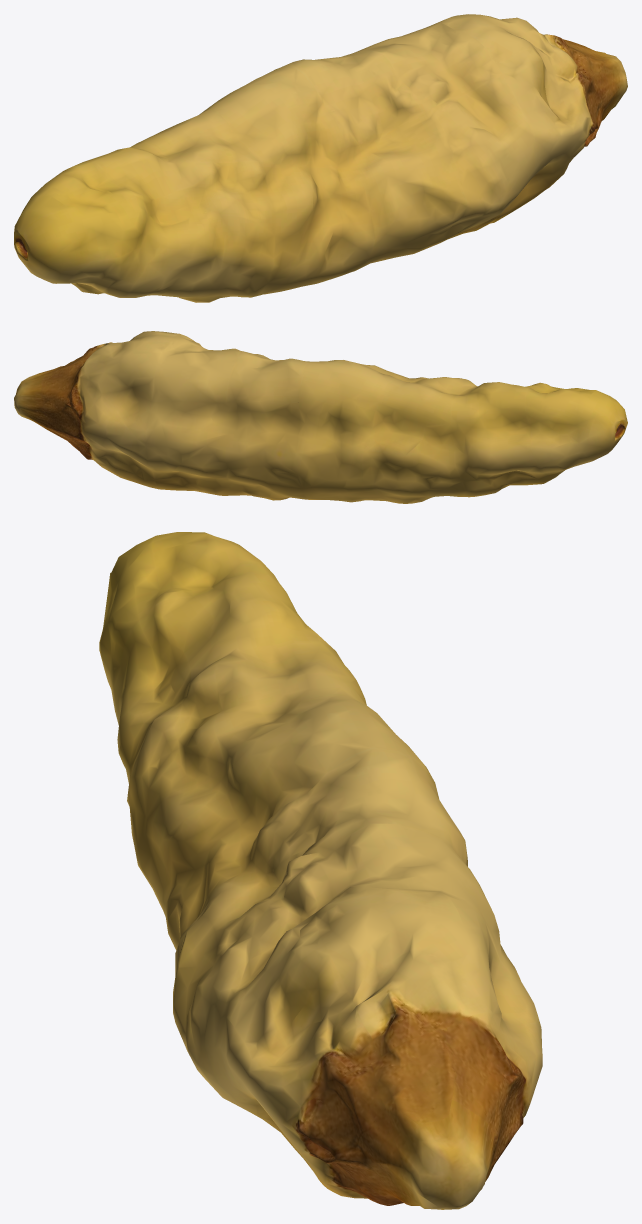
Rendered from chili-mini.glb.
3 views of the same model, one above another, from view 1: azimuth 30°, elevation 25°; view 2: azimuth 150°, elevation 25°; view 3: azimuth 270°, elevation 25° (orthographic). The views are drawn at different scales.
Size of the model in its own units: 0.9997 by 0.2697 by 0.3586.
Materials: 1 (1 with a texture image).
